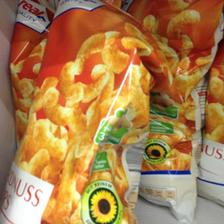Chips: (3, 0, 159, 224)
